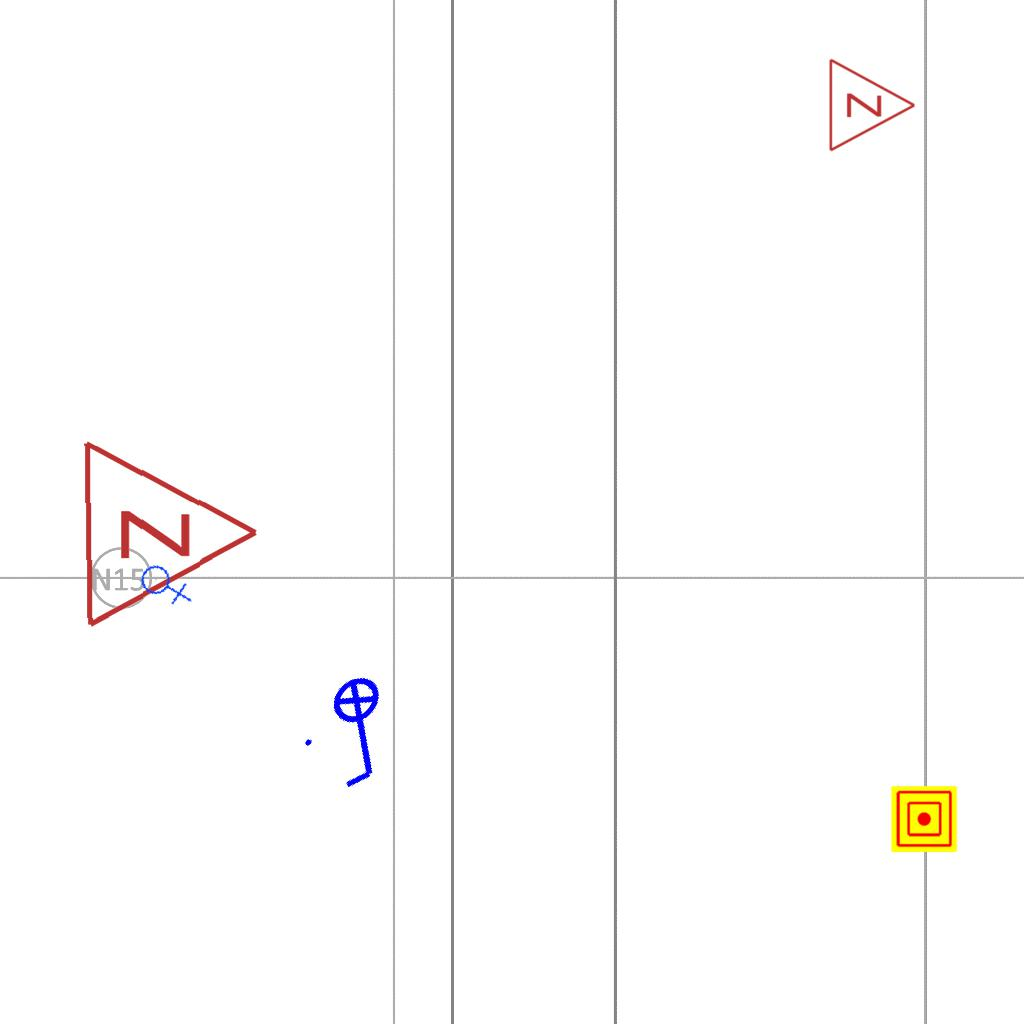Ausschalter_beleuchtet: (287, 657, 435, 805)
Elektroanschluss_allgemein_230V_Geraeteanschlussdose_230V: (136, 553, 195, 614)
NAM-Nichtautomatischer_Melder: (891, 786, 957, 852)
Zimmersignalleuchte: (69, 431, 273, 631), (822, 55, 922, 153)
